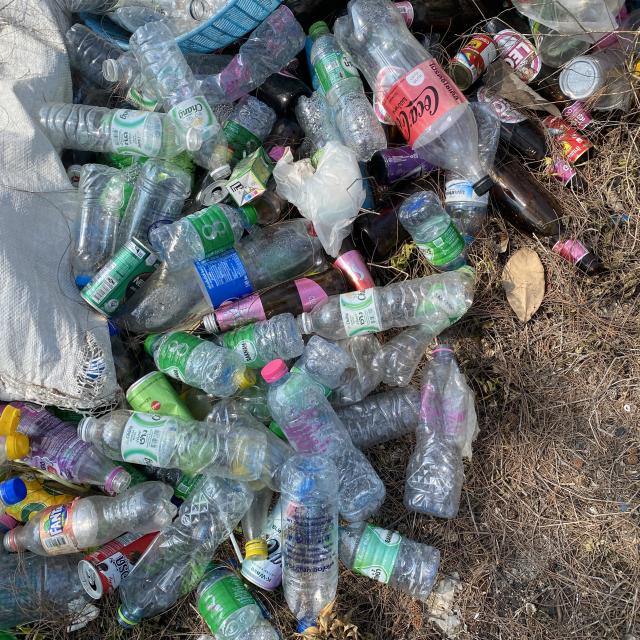Single-layer Plastic: (272, 141, 365, 258)
